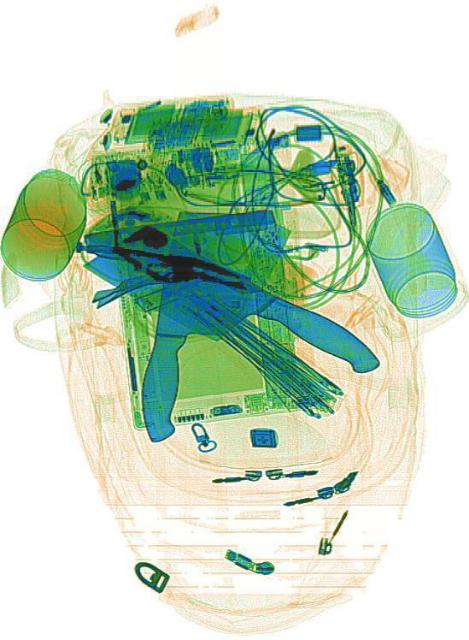Knife: (81, 185, 382, 431), (130, 184, 271, 462)
